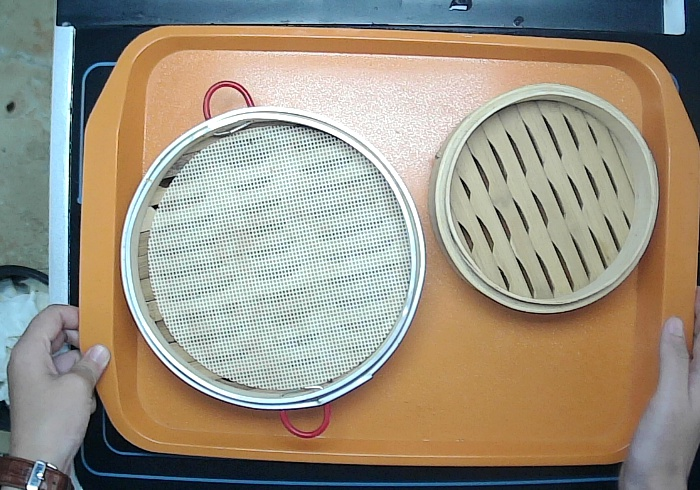ZNLD-Da_Zheng_Long: (120, 77, 431, 440)
ZNLD-Xiao_Zheng_Long: (424, 79, 662, 329)
